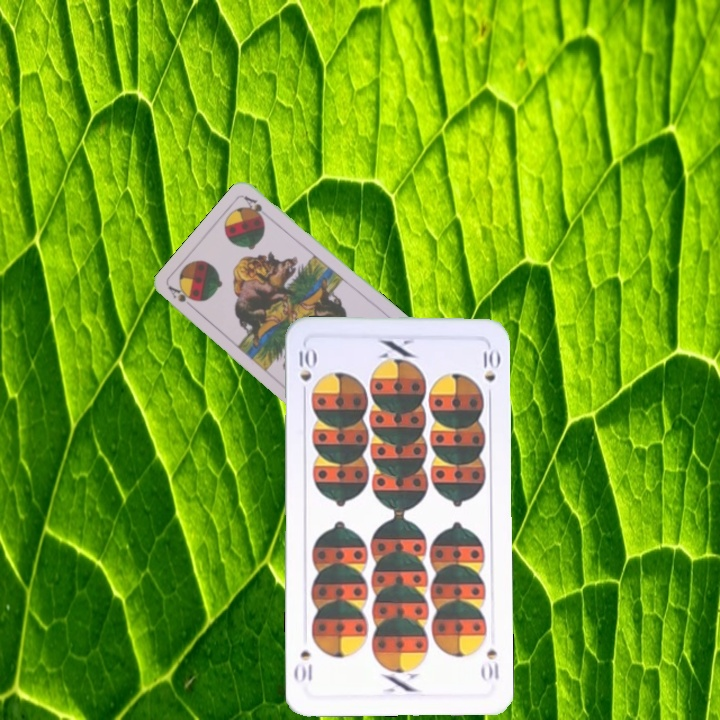S10: (478, 645, 502, 684), (295, 341, 316, 383)
SA: (165, 282, 199, 313)
